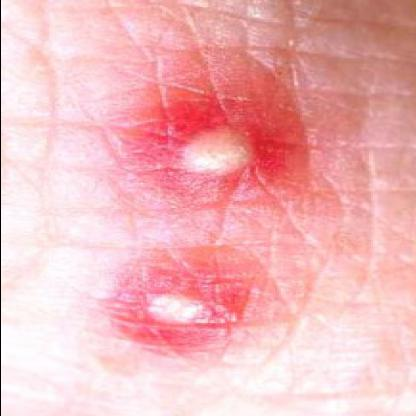Fire ant: (163, 102, 274, 188), (124, 266, 218, 346)
